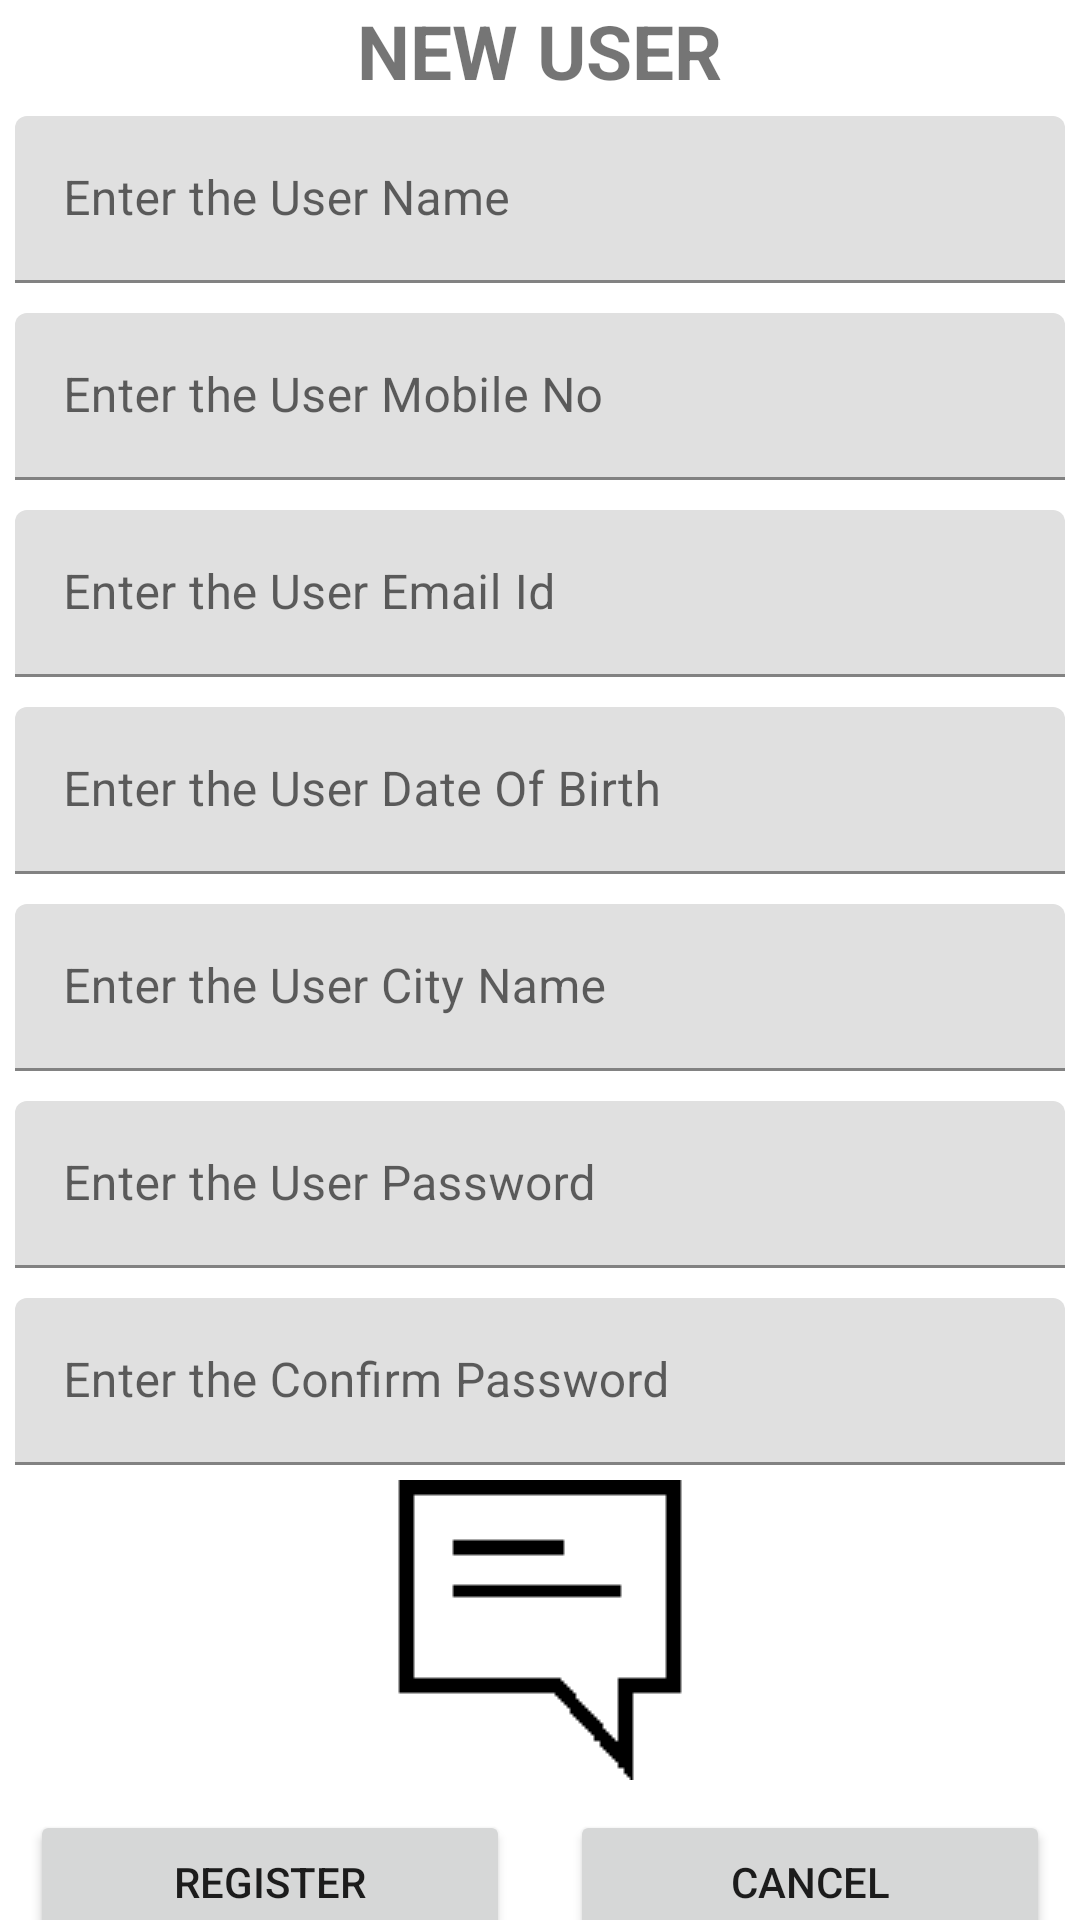

Icons on this 1080w x 1920h Android screen, each with its box as (x1, y1, x2, y2):
rectangularsms: (398, 1480, 682, 1780)
